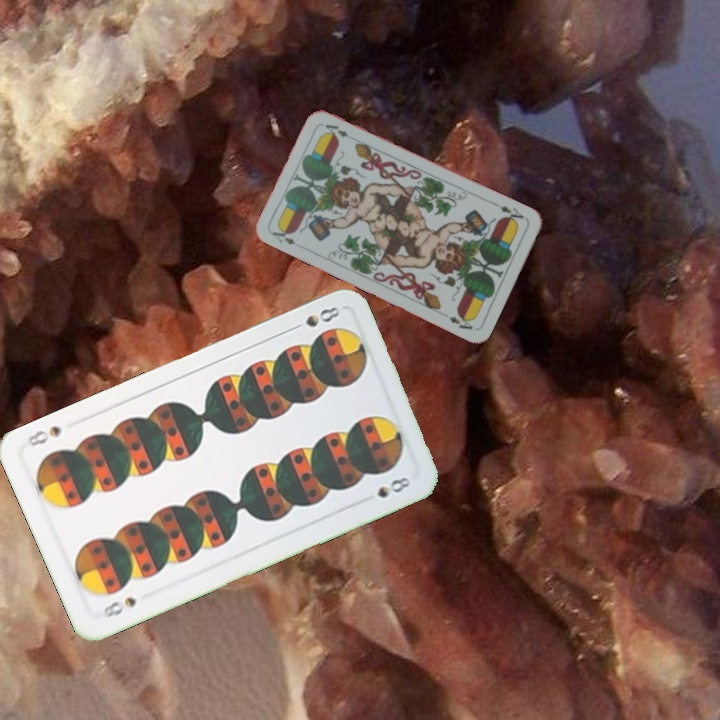EA: (491, 199, 526, 226), (268, 223, 298, 247)
S8: (286, 302, 343, 334), (98, 593, 140, 621)
